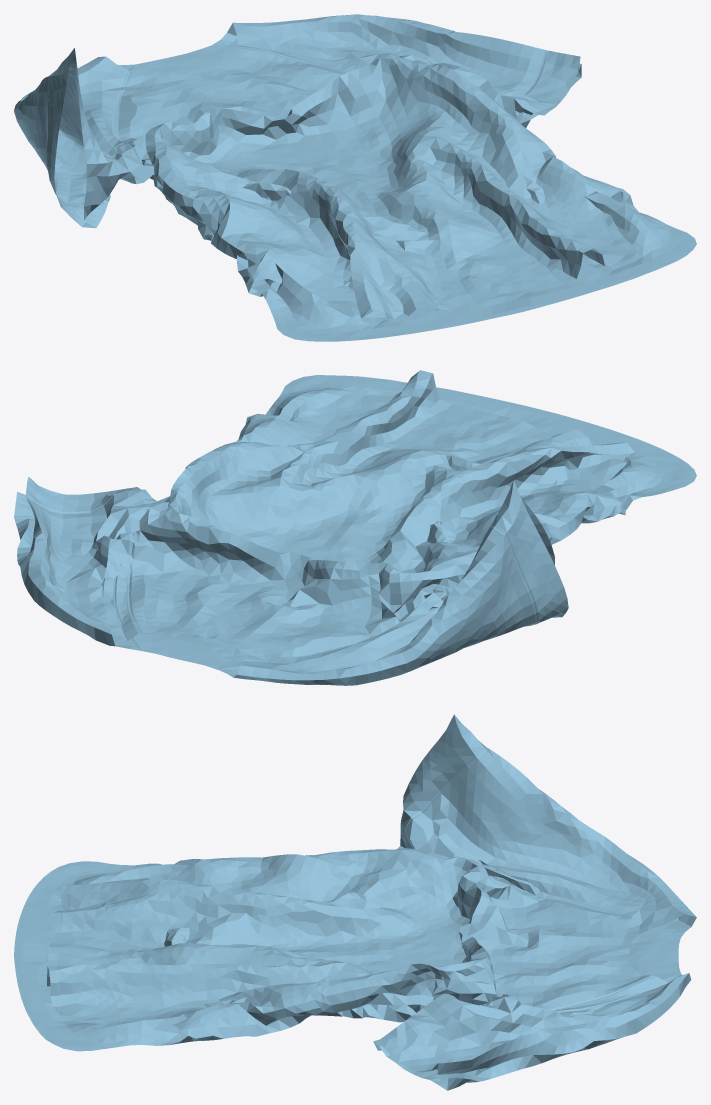
Rendered from frame_07.glb.
3 renders of one model, top to bottom at view 1: azimuth 30°, elevation 25°; view 2: azimuth 150°, elevation 25°; view 3: azimuth 270°, elevation 25°, orthographic. The views are drawn at different scales.
Visible parts, largest first — view 1: frame_07.obj; view 2: frame_07.obj; view 3: frame_07.obj.
Part boxes in pixels (<box>): frame_07.obj: <box>14,14,696,341</box>; frame_07.obj: <box>14,370,696,685</box>; frame_07.obj: <box>14,714,696,1090</box>.
Size of the model in its own units: 1.59 by 0.4382 by 1.83.
